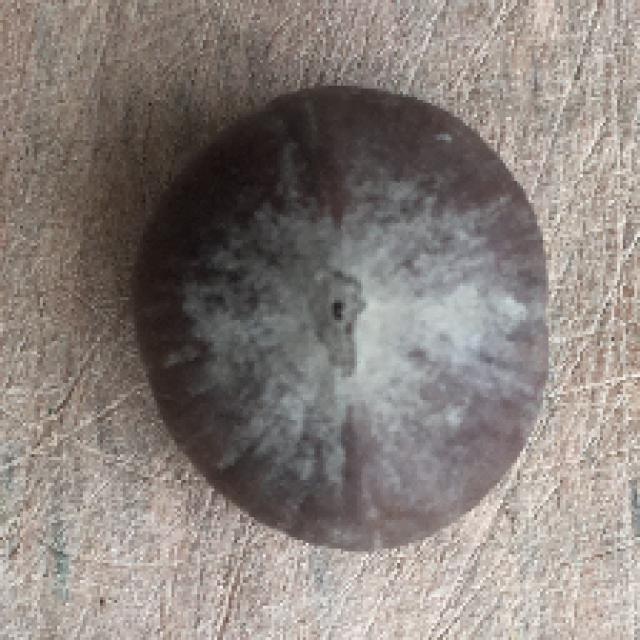damagedHazelnut: (118, 68, 563, 561)
